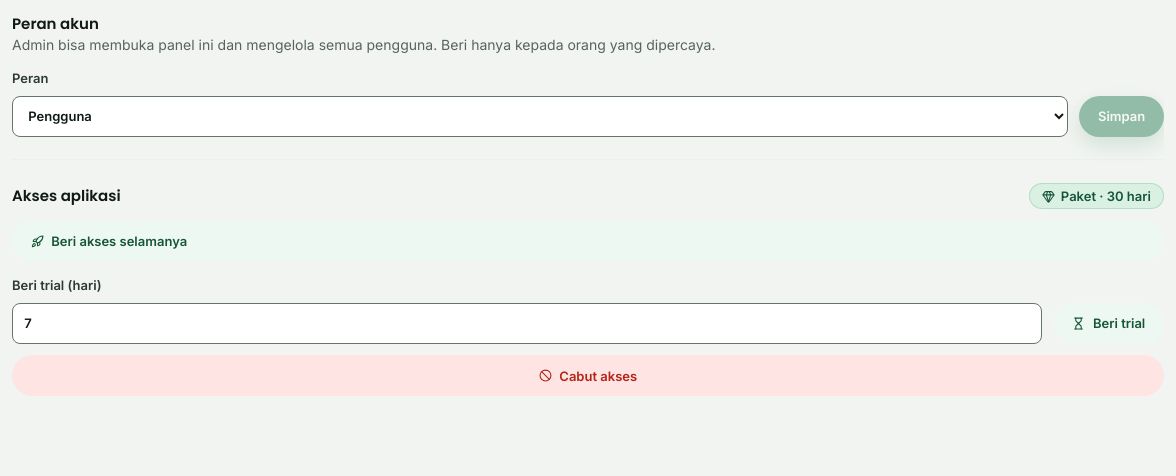
Scenario: modal kelola pengguna › galat dari server ditampilkan, bukan diam
Click the button "Beri akses selamanya" at {"x": 119, "y": 241}, box 12,220 -> 1164,262
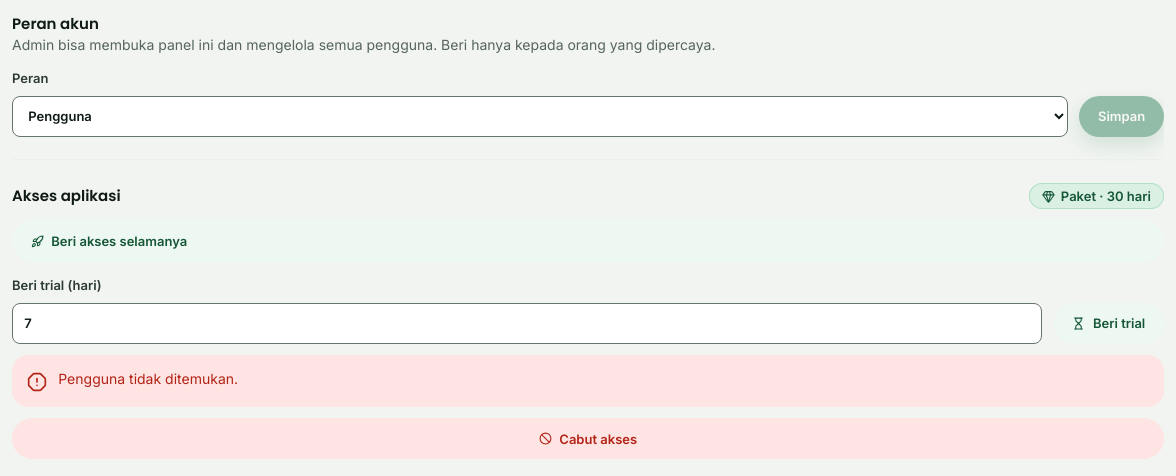
Now the text "Pengguna tidak ditemukan." is shown, box 58,370 -> 238,387
